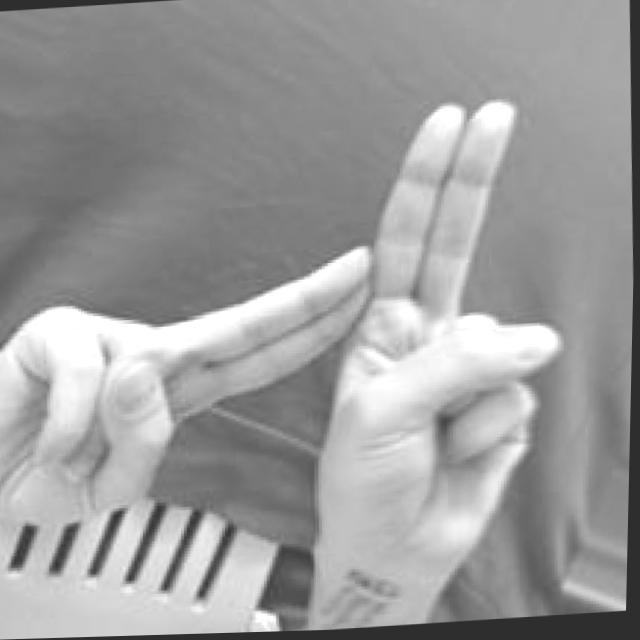K: (0, 88, 588, 640)
